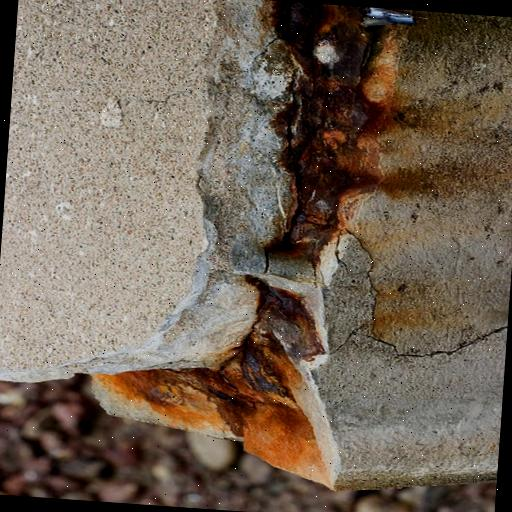spalling: (90, 1, 401, 489)
